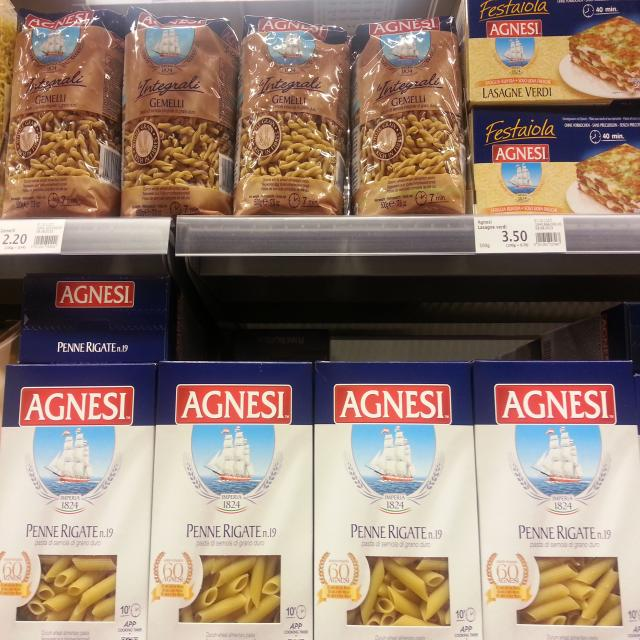Pasta: (140, 354, 314, 640), (314, 360, 482, 640), (474, 358, 640, 640), (0, 358, 158, 640), (3, 6, 123, 220), (235, 10, 354, 214), (352, 20, 468, 213), (125, 16, 239, 212), (465, 107, 640, 225), (458, 0, 640, 112)
